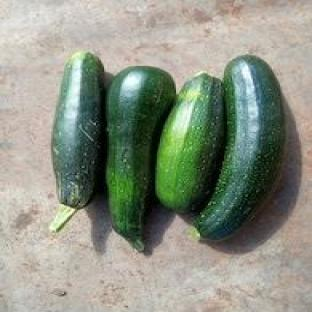Zucchini: (196, 56, 284, 239), (106, 66, 175, 250), (156, 72, 225, 212), (50, 52, 103, 231)
